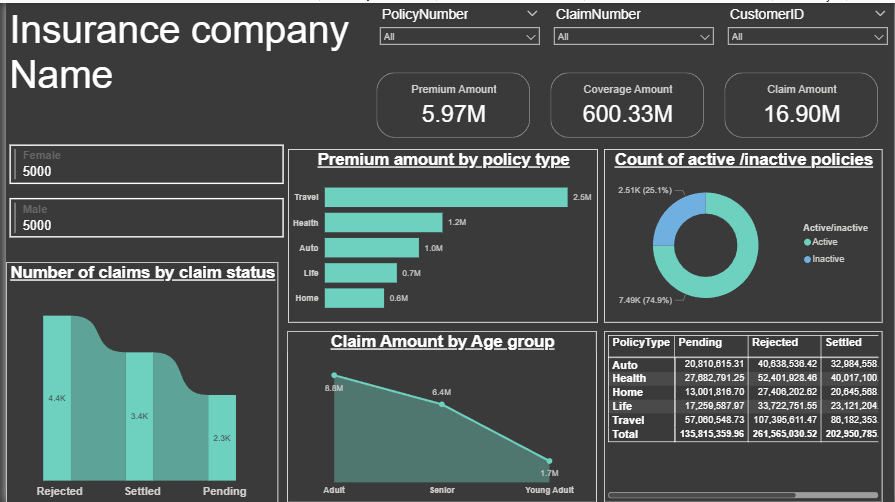

The dashboard page shown, as its layout file describes it:
{"tool":"powerbi","page":{"name":"Page 1","canvas":[1280,720],"ordinal":0},"visuals":[{"type":"slicer","fields":{"Values":["InsuranceData (1).PolicyNumber"]},"box":[529.1,0,250.3,73.9],"z":0},{"type":"slicer","fields":{"Values":["InsuranceData (1).ClaimNumber"]},"box":[779.4,0,250.3,73.9],"z":1000},{"type":"slicer","fields":{"Values":["InsuranceData (1).CustomerID"]},"box":[1029.7,0,250.3,73.9],"z":2000},{"type":"textbox","box":[0,0,529.8,199],"z":3000},{"type":"cardVisual","fields":{"Data":["Sum(InsuranceData (1).PremiumAmount)"]},"box":[529.1,95.7,231.8,104.1],"z":4000},{"type":"cardVisual","fields":{"Data":["Sum(InsuranceData (1).CoverageAmount)"]},"box":[779.4,95.7,231.8,104.1],"z":5000},{"type":"cardVisual","fields":{"Data":["Sum(InsuranceData (1).ClaimAmount)"]},"box":[1029.7,95.7,231.8,104.1],"z":6000},{"type":"multiRowCard","fields":{"Values":["InsuranceData (1).Gender","CountNonNull(InsuranceData (1).Gender)"]},"box":[0,199,405.4,174.1],"z":7000},{"type":"ribbonChart","title":"Number of claims by claim status","fields":{"Category":["InsuranceData (1).ClaimStatus"],"Y":["CountNonNull(InsuranceData (1).ClaimStatus)"]},"box":[0,373.2,392.2,346.8],"z":8000},{"type":"barChart","title":"Premium amount by policy type","fields":{"Category":["InsuranceData (1).PolicyType"],"Y":["Sum(InsuranceData (1).PremiumAmount)"]},"box":[405.4,210.7,446.3,250.2],"z":9000},{"type":"lineChart","title":"Claim Amount by Age group","fields":{"Category":["InsuranceData (1).Age group"],"Y":["Sum(InsuranceData (1).ClaimAmount)"]},"box":[405,473,446,247],"z":10000},{"type":"donutChart","title":"Count of active /inactive policies","fields":{"Category":["InsuranceData (1).Active/inactive"],"Y":["CountNonNull(InsuranceData (1).Active/inactive)"]},"box":[860.5,210.7,401,250.2],"z":11000},{"type":"pivotTable","fields":{"Values":["Sum(InsuranceData (1).CoverageAmount)"],"Rows":["InsuranceData (1).PolicyType"],"Columns":["InsuranceData (1).ClaimStatus"]},"box":[860.5,472.7,401,247.3],"z":12000}]}

Visuals, with their boxes in screenshot pixels (x1, y1, x2, y2), scaled from the page's 1280x720 canvas onto the 895x502 screenshot:
slicer - InsuranceData (1).PolicyNumber: {"left": 370, "top": 0, "right": 545, "bottom": 52}
slicer - InsuranceData (1).ClaimNumber: {"left": 545, "top": 0, "right": 720, "bottom": 52}
slicer - InsuranceData (1).CustomerID: {"left": 720, "top": 0, "right": 894, "bottom": 52}
textbox: {"left": 0, "top": 0, "right": 370, "bottom": 139}
cardVisual - Sum(InsuranceData (1).PremiumAmount): {"left": 370, "top": 67, "right": 532, "bottom": 139}
cardVisual - Sum(InsuranceData (1).CoverageAmount): {"left": 545, "top": 67, "right": 707, "bottom": 139}
cardVisual - Sum(InsuranceData (1).ClaimAmount): {"left": 720, "top": 67, "right": 882, "bottom": 139}
multiRowCard - InsuranceData (1).Gender x CountNonNull(InsuranceData (1).Gender): {"left": 0, "top": 139, "right": 283, "bottom": 260}
"Number of claims by claim status" ribbonChart: {"left": 0, "top": 260, "right": 274, "bottom": 501}
"Premium amount by policy type" barChart: {"left": 283, "top": 147, "right": 596, "bottom": 321}
"Claim Amount by Age group" lineChart: {"left": 283, "top": 330, "right": 595, "bottom": 501}
"Count of active /inactive policies" donutChart: {"left": 602, "top": 147, "right": 882, "bottom": 321}
pivotTable - Sum(InsuranceData (1).CoverageAmount) x InsuranceData (1).PolicyType: {"left": 602, "top": 330, "right": 882, "bottom": 501}
